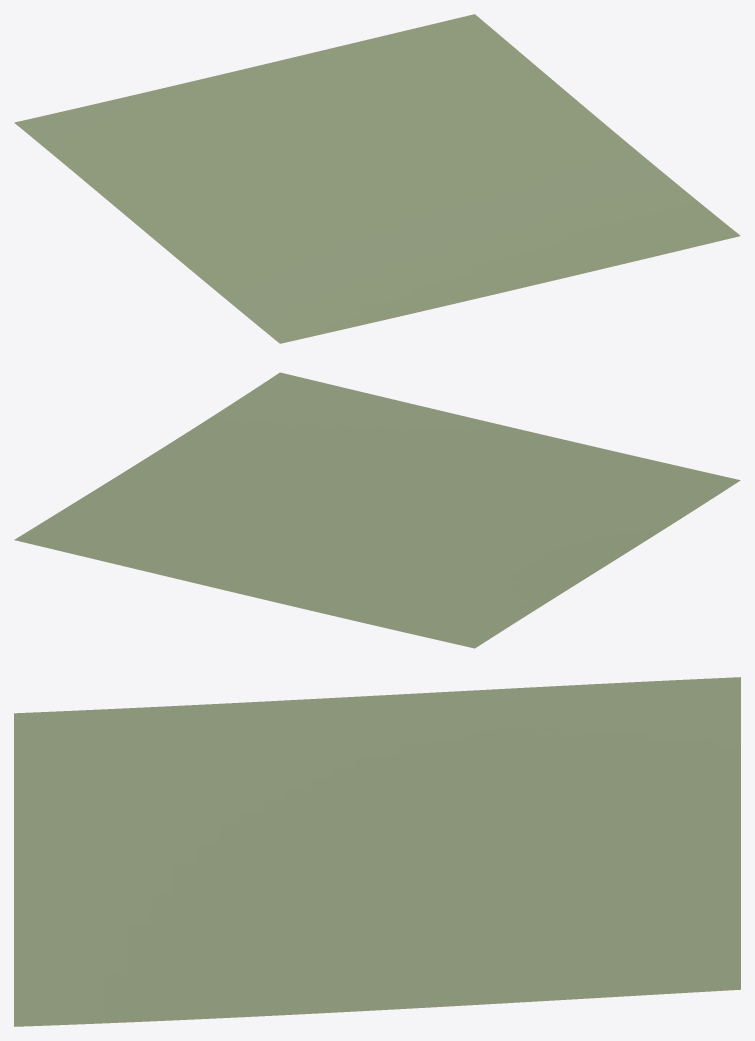
File: desert-5-18.glb
The picture shows the model from 3 angles, top to bottom: view 1: azimuth 30°, elevation 25°; view 2: azimuth 150°, elevation 25°; view 3: azimuth 270°, elevation 25°; orthographic projection. The views are drawn at different scales.
Visible parts, largest first — view 1: desert-5-18; view 2: desert-5-18; view 3: desert-5-18.
Part boxes in pixels (<box>): desert-5-18: <box>14,14,740,343</box>; desert-5-18: <box>14,372,740,648</box>; desert-5-18: <box>14,677,740,1026</box>.
Bounding box in the file's own units: 512 × 33 × 512.
